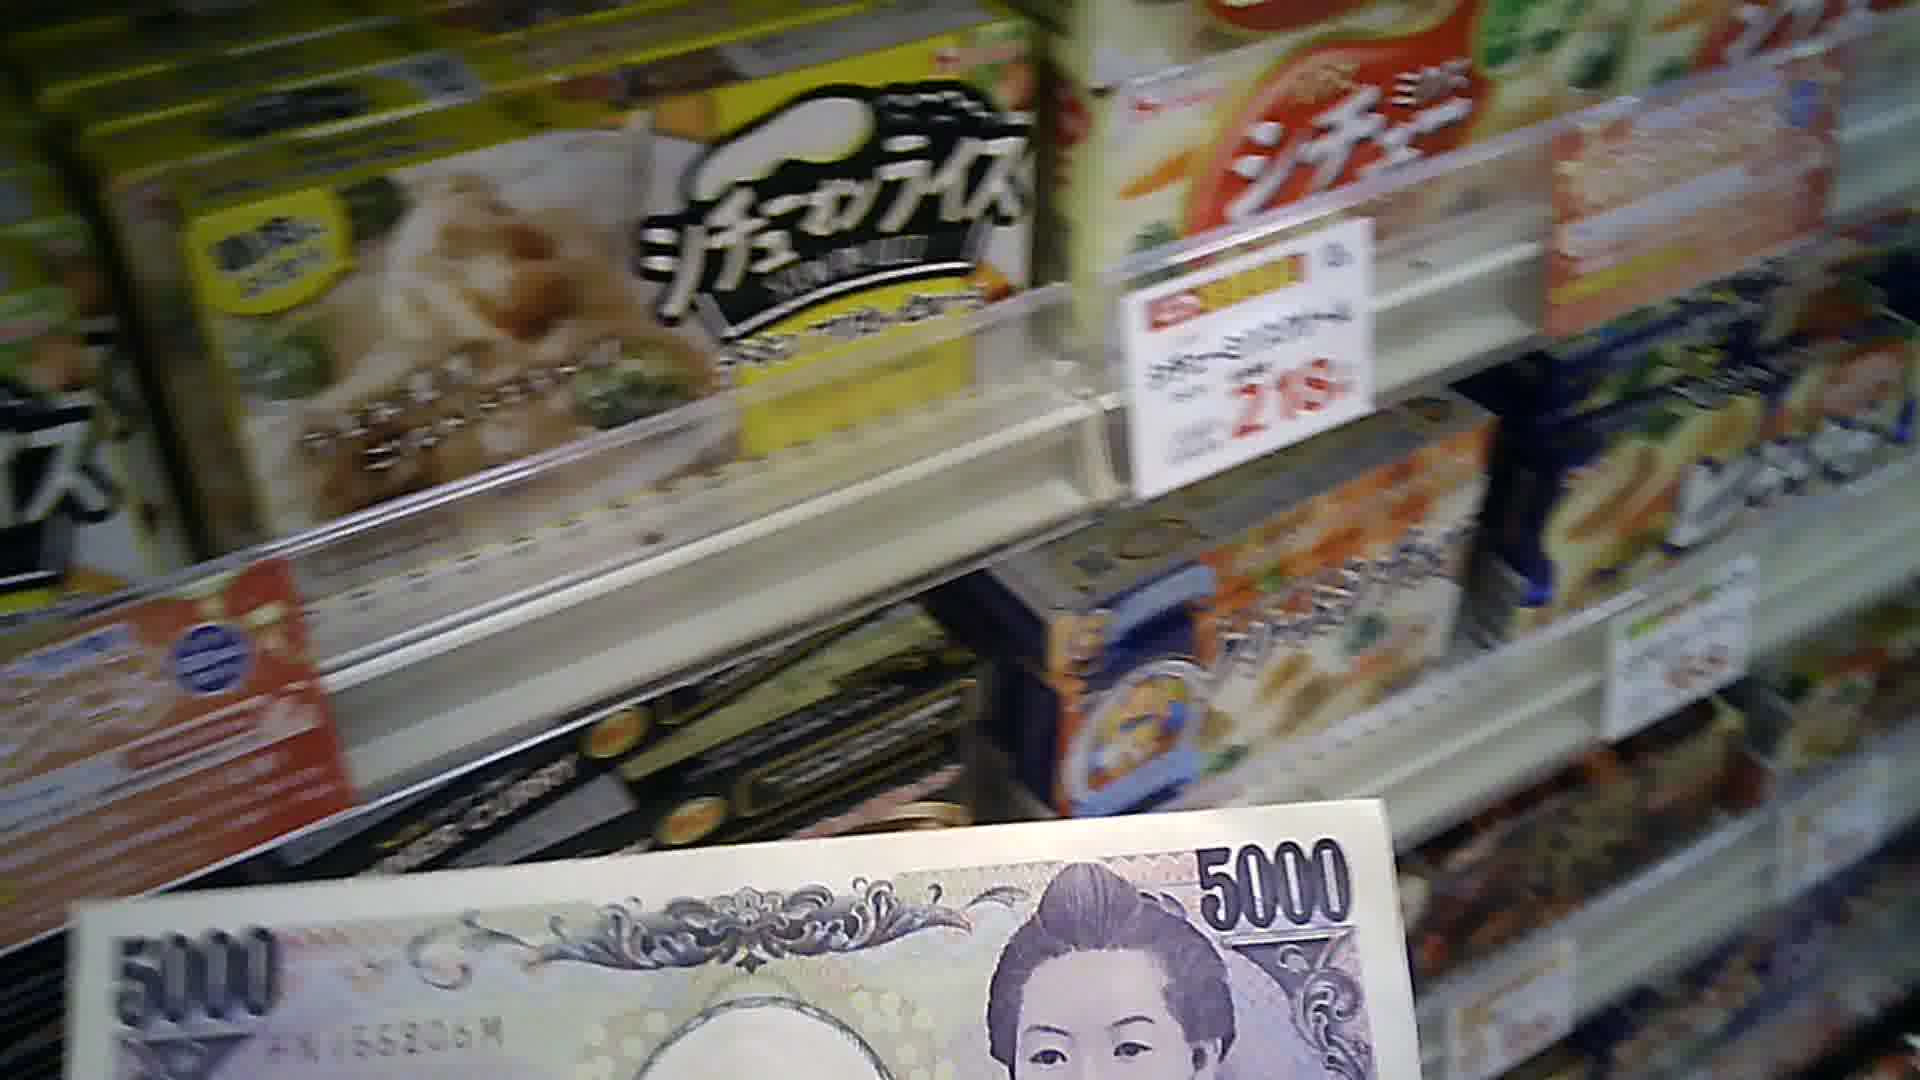5,000 Yen: (47, 796, 1402, 1079)
